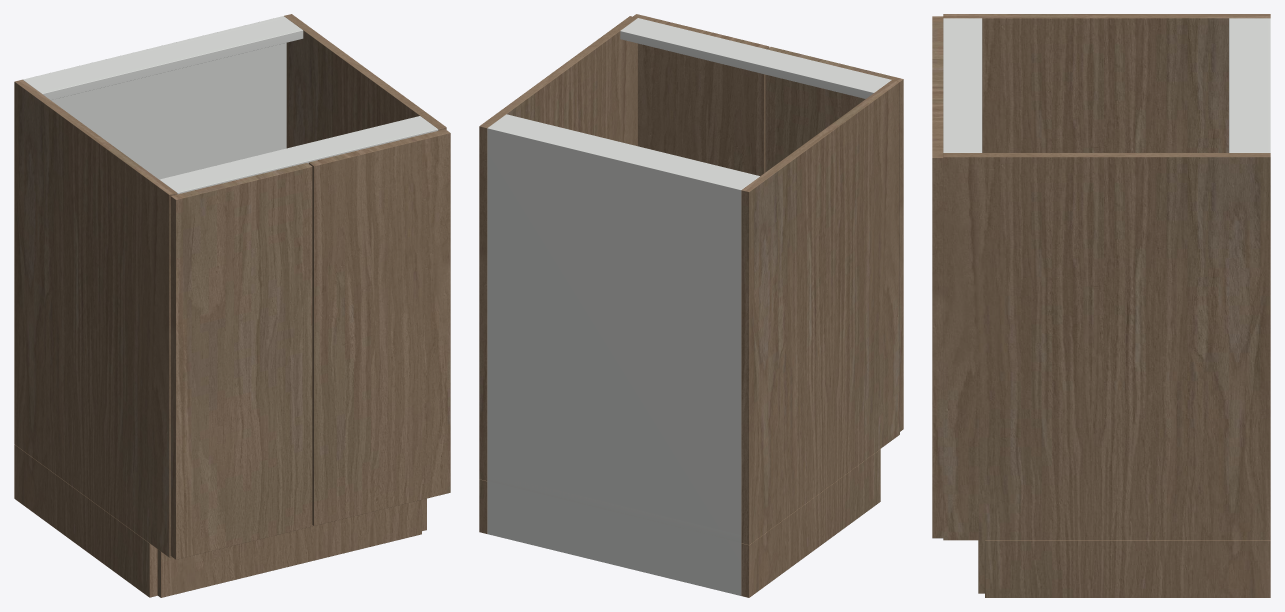
File: bvc-1352.glb
3 renders of one model, left to right at view 1: azimuth 30°, elevation 25°; view 2: azimuth 150°, elevation 25°; view 3: azimuth 270°, elevation 25°, orthographic. The views are drawn at different scales.
Parts seen in each view (by area): view 1: Cabinet side, Door, Door.001, Cabinet back, Cabinet side.001, Recessed toe board, Recessed side plinth, Top support rail, Top support rail.001; view 2: Cabinet back, Cabinet side, Door.001, Cabinet side.001, Recessed side plinth, Door, Top support rail.001, Top support rail, Cabinet bottom; view 3: Cabinet side.001, Cabinet side, Recessed side plinth.001, Door.001, Top support rail.001, Top support rail, Cabinet back, Door.
Part boxes in pixels (x1,y1,x2,y2): Cabinet side: (14,79,177,557); Door: (170,163,312,559); Door.001: (308,129,450,525); Cabinet back: (23,16,286,179); Cabinet side.001: (284,14,446,148); Recessed toe board: (157,500,421,597); Recessed side plinth: (14,444,157,597); Top support rail: (25,17,303,99); Top support rail.001: (159,116,438,194); Cabinet back: (487,126,743,595); Cabinet side: (741,80,899,544); Door.001: (633,14,769,176); Cabinet side.001: (479,16,637,480); Recessed side plinth: (741,449,880,597); Door: (765,47,903,431); Top support rail.001: (620,18,891,98); Top support rail: (489,114,759,188); Cabinet bottom: (487,477,741,542); Cabinet side.001: (943,153,1270,540); Cabinet side: (943,14,1270,152); Recessed side plinth.001: (985,540,1270,597); Door.001: (932,87,943,538); Top support rail.001: (943,18,982,152); Top support rail: (1229,18,1264,152); Cabinet back: (1264,18,1270,152); Door: (932,16,943,87).
Bounding box in the file's own units: 0.6096 × 0.8763 × 0.6096.
Materials: 2 (1 with a texture image).
